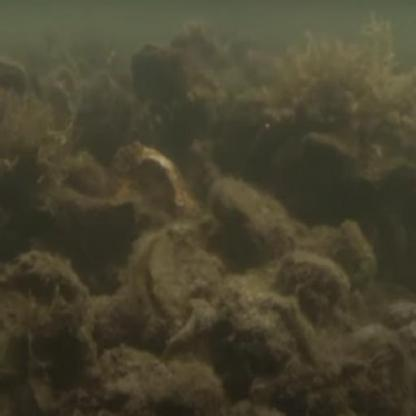3: (141, 225, 223, 329)
Oyster-Closed: (212, 180, 291, 261), (280, 251, 352, 299)
